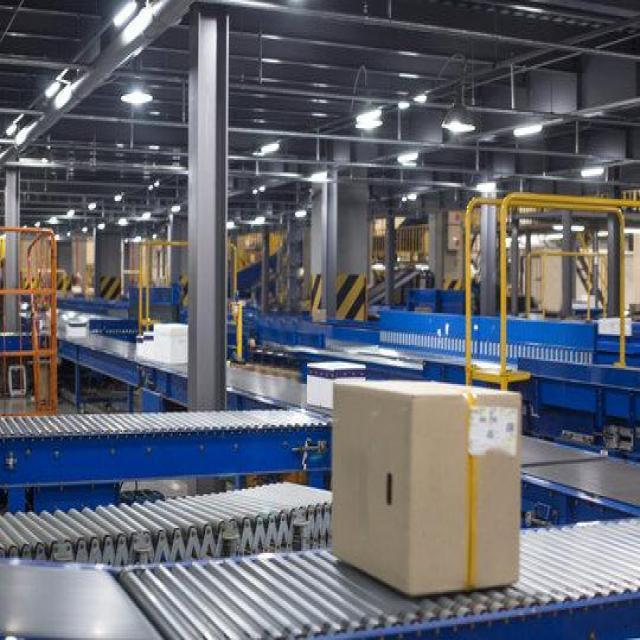box: (330, 377, 526, 599), (305, 358, 366, 407), (152, 324, 190, 366)
